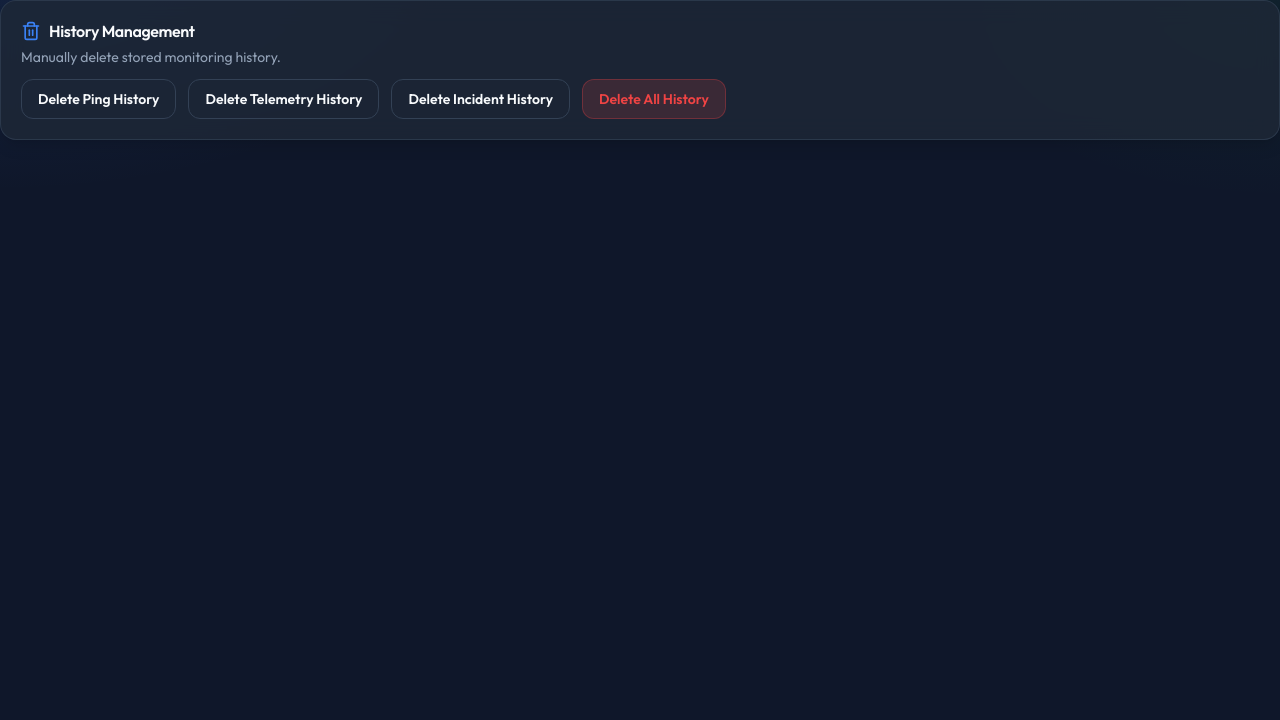
Test case: HistoryManagementSection › opens confirmation dialog before deletion
Click the button "Delete Ping History" at [99, 99], box [21,79,176,119]
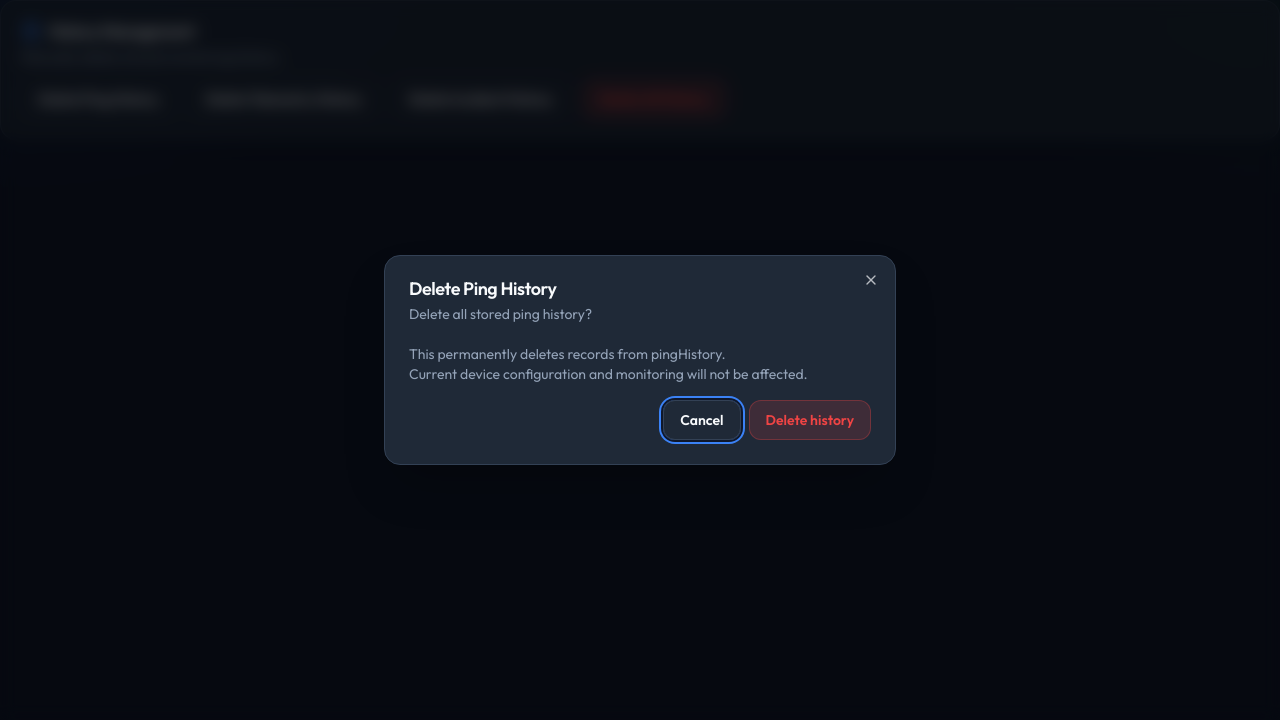
Result: the dialog is shown at [384,255,896,465]
